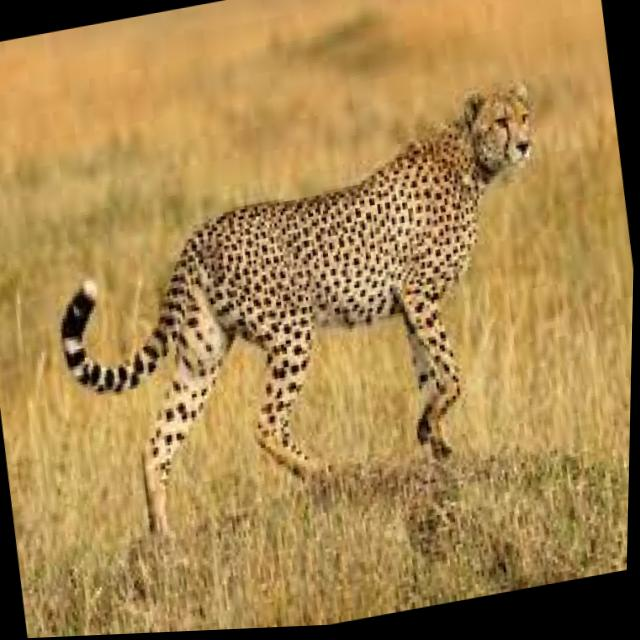dog: (28, 73, 589, 556)
